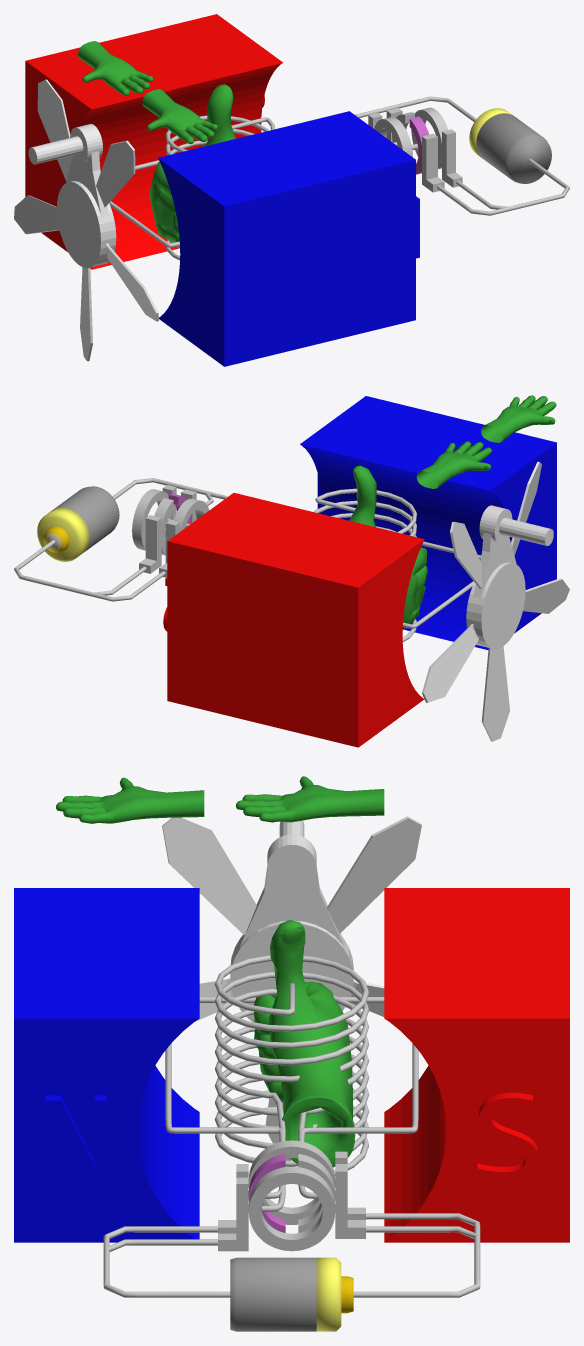
Rendered from DCACMotor.gltf.
3 renders of one model, top to bottom at view 1: azimuth 30°, elevation 25°; view 2: azimuth 150°, elevation 25°; view 3: azimuth 270°, elevation 25°, orthographic. The views are drawn at different scales.
Visible parts, largest first — view 1: magN, magS, fan00, batt0, hand00, thumb, handILBR, handILBL, hand01, MainCore2, hand03, brushAL (+9 smaller); view 2: magS, magN, fan00, hand00, thumb, batt0, handILBL, handILBR, batt1, MainCore2, hand01, hand03 (+9 smaller); view 3: magN, magS, MainCore2, thumb, fan00, batt0, hand00, handILBL, handILBR, collectionB01, magLetterN, MainCore (+13 smaller).
Part boxes in pixels (x1,y1,x2,y2): magN: [158, 111, 415, 366]; magS: [25, 14, 282, 269]; fan00: [14, 79, 158, 361]; batt0: [476, 113, 551, 183]; hand00: [56, 181, 116, 268]; thumb: [149, 84, 235, 242]; handILBR: [77, 41, 153, 95]; handILBL: [142, 89, 217, 144]; hand01: [66, 151, 109, 216]; MainCore2: [165, 115, 274, 260]; hand03: [28, 136, 83, 164]; brushAL: [422, 133, 444, 192]; magS: [167, 493, 424, 747]; magN: [300, 396, 556, 649]; fan00: [422, 461, 569, 741]; hand00: [466, 562, 525, 649]; thumb: [349, 465, 427, 629]; batt0: [52, 486, 119, 552]; handILBL: [481, 395, 556, 442]; handILBR: [416, 441, 492, 488]; batt1: [37, 507, 89, 561]; MainCore2: [314, 488, 416, 641]; hand01: [473, 532, 516, 598]; hand03: [499, 517, 553, 545]; magN: [14, 888, 199, 1242]; magS: [384, 888, 569, 1242]; MainCore2: [214, 955, 369, 1175]; thumb: [254, 920, 355, 1167]; fan00: [162, 816, 421, 1160]; batt0: [230, 1257, 316, 1331]; hand00: [230, 920, 353, 1021]; handILBL: [56, 777, 204, 823]; handILBR: [235, 776, 384, 822]; collectionB01: [248, 1166, 335, 1251]; magLetterN: [45, 1095, 106, 1182]; MainCore: [165, 997, 418, 1141].
Bounding box in the file's own units: 13 × 7.08 × 9.
